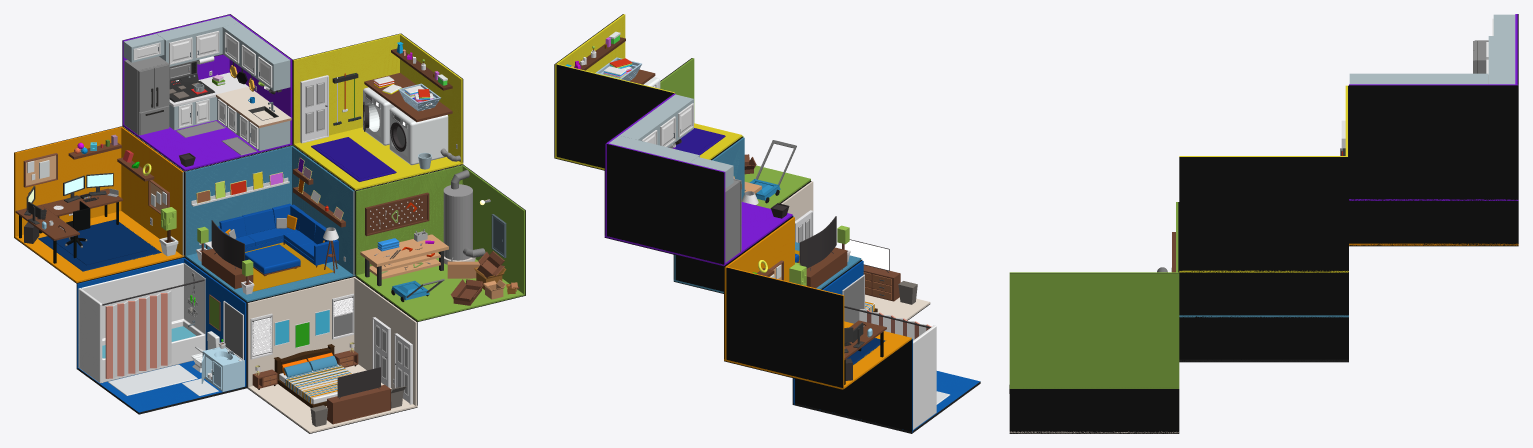
The picture shows the model from 3 angles, left to right: view 1: azimuth 30°, elevation 25°; view 2: azimuth 150°, elevation 25°; view 3: azimuth 270°, elevation 25°; orthographic projection. The views are drawn at different scales.
Parts seen in each view (by area): view 1: House_Material_0, Lights_Lighting_0; view 2: House_Material_0, Lights_Lighting_0; view 3: House_Material_0.
Part boxes in pixels (x1,y1,x2,y2): House_Material_0: [14, 14, 525, 433]; Lights_Lighting_0: [28, 80, 484, 204]; House_Material_0: [554, 14, 980, 433]; Lights_Lighting_0: [653, 86, 888, 270]; House_Material_0: [1009, 14, 1518, 433].
Bounding box in the file's own units: 6 × 4.53 × 6.
Materials: 2 (1 with a texture image).
